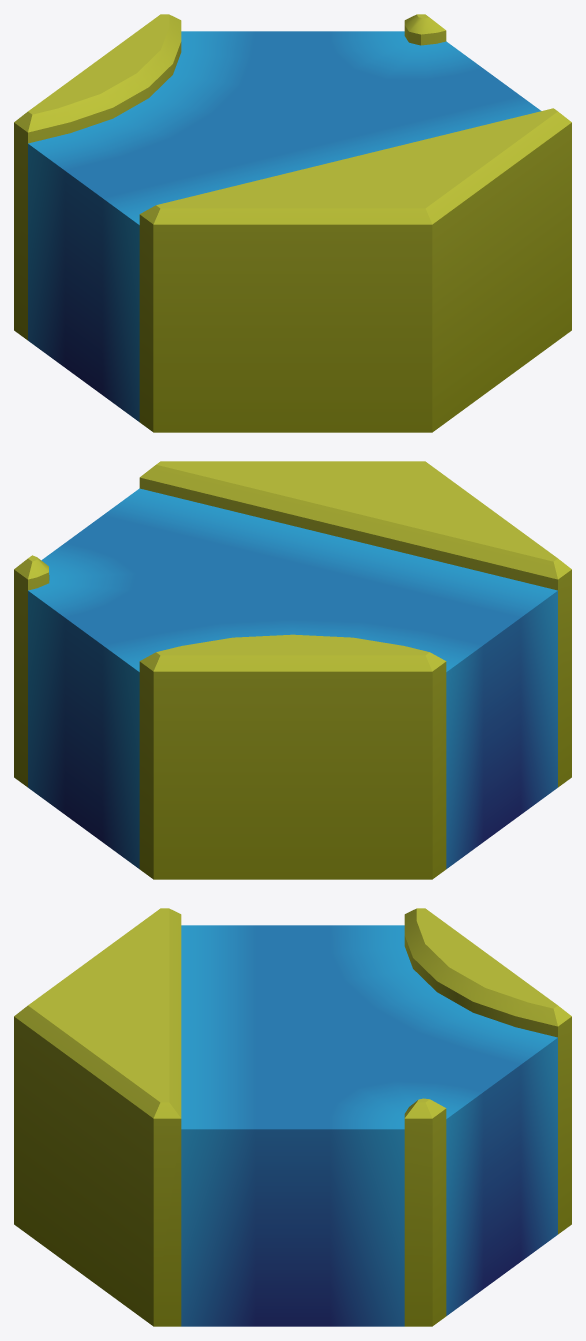
The model's file is hex_river_E.gltf.
3 views of the same model, one above another, from view 1: azimuth 30°, elevation 25°; view 2: azimuth 150°, elevation 25°; view 3: azimuth 270°, elevation 25° (orthographic).
Parts seen in each view (by area): view 1: hex_river_E; view 2: hex_river_E; view 3: hex_river_E.
Boxes of the visible parts, x1=… form: hex_river_E: x1=14, y1=14, x2=571, y2=432; hex_river_E: x1=14, y1=461, x2=571, y2=879; hex_river_E: x1=14, y1=908, x2=571, y2=1326.
Bounding box in the file's own units: 2 × 1 × 2.31.
1 material, 1 textured.
